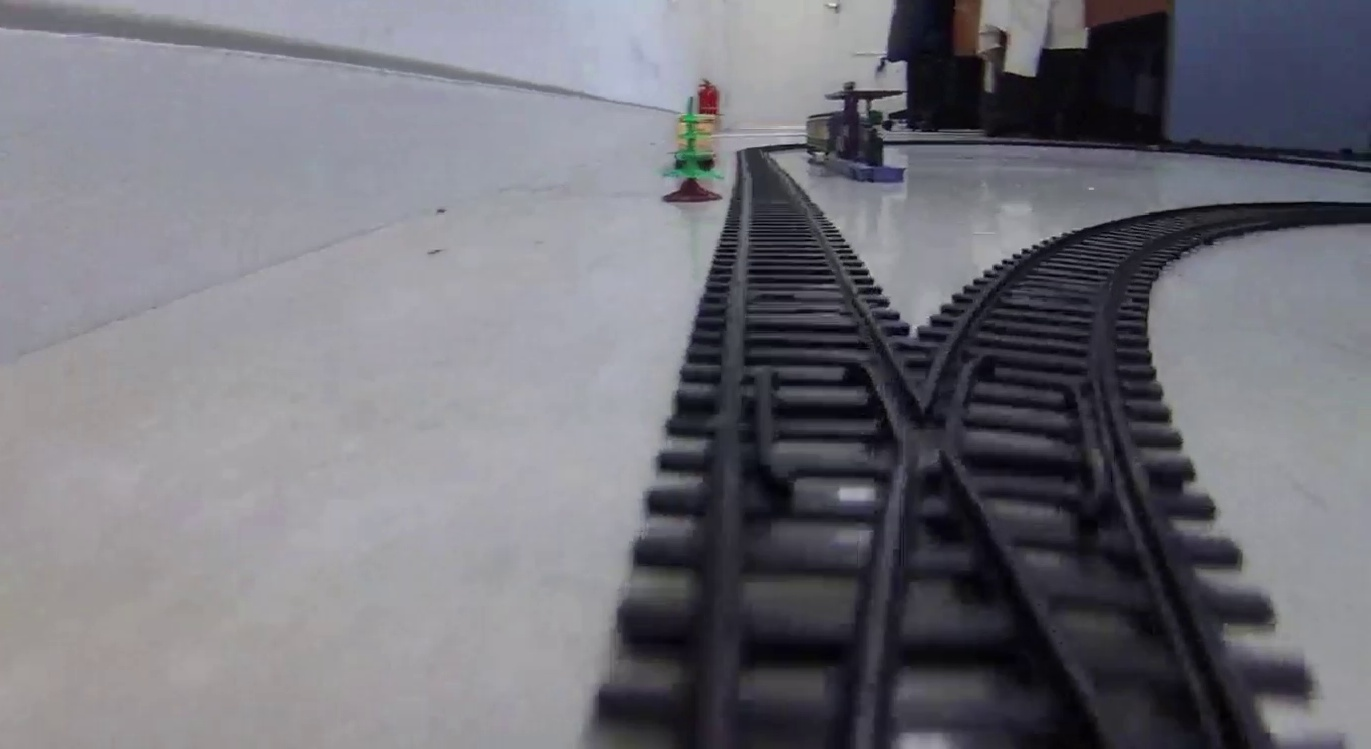tree: (662, 98, 721, 204)
